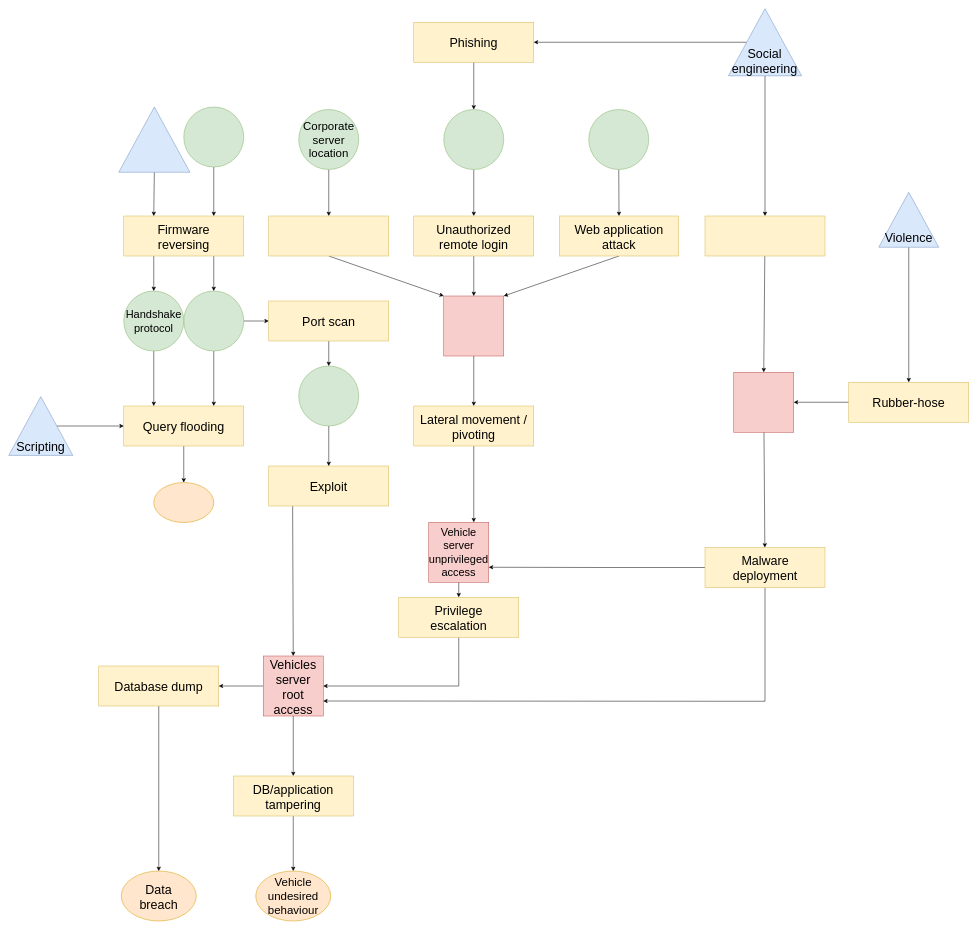
Image size: 978x930. Some labels were removed from this diagram. The centre of each missing label's shape, as x and y in pixels:
"Binary dump" belongs at point 213,136.
"Corporate network access" belongs at point 473,326.
"Corporate network IP address" belongs at point 618,139.
"DoS" belongs at point 183,502.
"Employee personal info" belongs at point 473,139.
"Network attack" belongs at point 328,236.
"Physical access" belongs at point 763,402.
"Reverse engineering" belongs at point 154,139.
"Socket address" belongs at point 213,320.
"USB drop attack" belongs at point 764,236.
"Vulnerability awareness" belongs at point 328,396.
